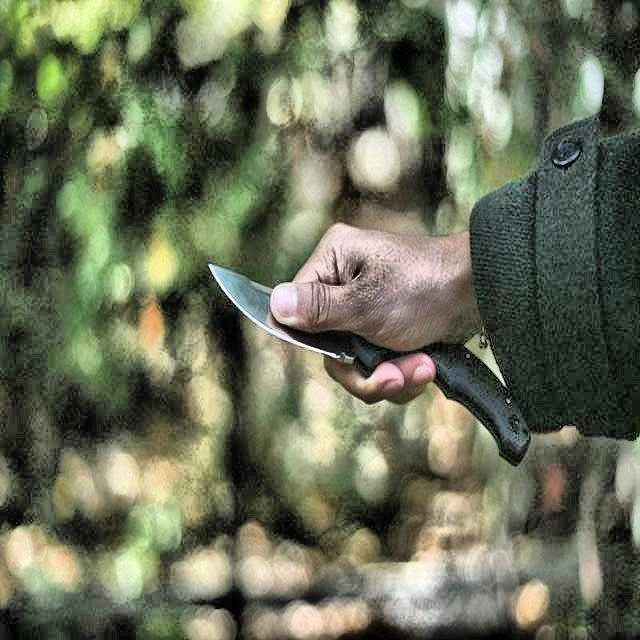knife: (211, 268, 533, 467)
